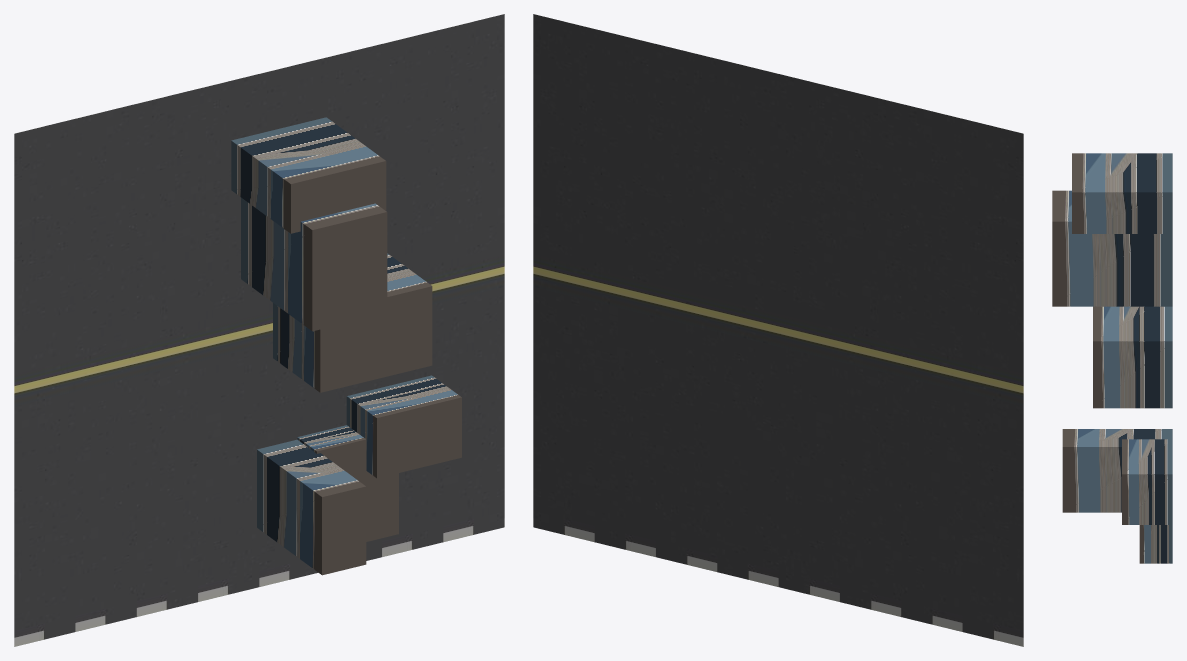
3 renders of one model, left to right at view 1: azimuth 30°, elevation 25°; view 2: azimuth 150°, elevation 25°; view 3: azimuth 270°, elevation 25°, orthographic. The views are drawn at different scales.
Bounding box in the file's own units: 119 × 119 × 30.05.
2 materials, 2 textured.
